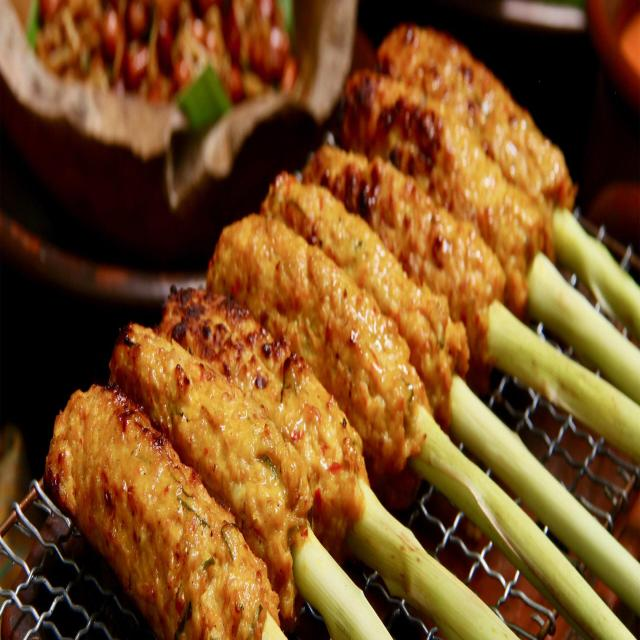Sate: (23, 0, 621, 639)
